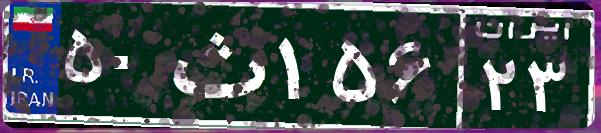0: (110, 28, 158, 105)
1: (273, 28, 330, 110)
2: (475, 38, 525, 113)
3: (525, 38, 570, 115)
5: (330, 28, 385, 110), (57, 26, 110, 107)
6: (385, 28, 445, 110)
ث: (158, 15, 273, 115)
